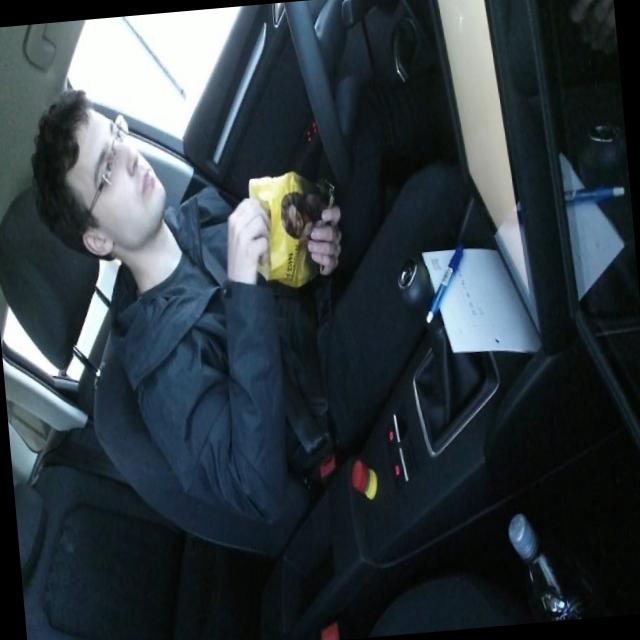pen: (418, 242, 469, 324)
